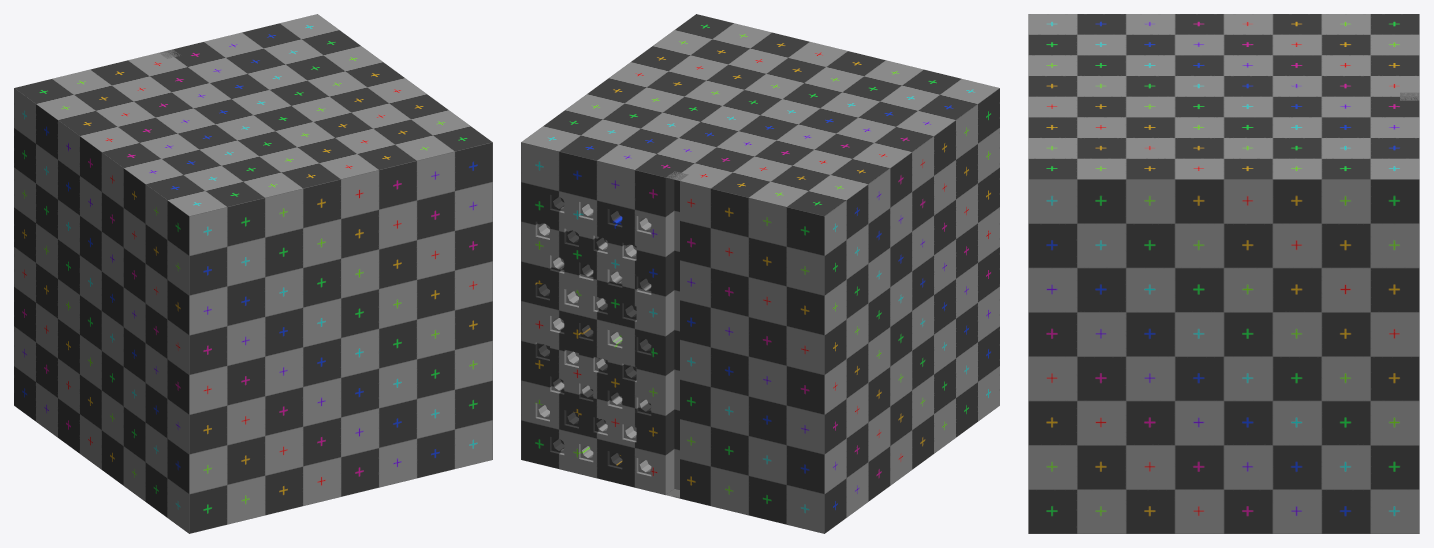
File: Demo_Level.glb
The picture shows the model from 3 angles, left to right: view 1: azimuth 30°, elevation 25°; view 2: azimuth 150°, elevation 25°; view 3: azimuth 270°, elevation 25°; orthographic projection. The views are drawn at different scales.
Parts seen in each view (by area): view 1: Level; view 2: Level; view 3: Level.
Part boxes in pixels (x1,y1,x2,y2): Level: [14, 14, 492, 533]; Level: [521, 14, 999, 533]; Level: [1028, 14, 1419, 533].
Bounding box in the file's own units: 300 × 300 × 300.
1 material, 1 textured.
